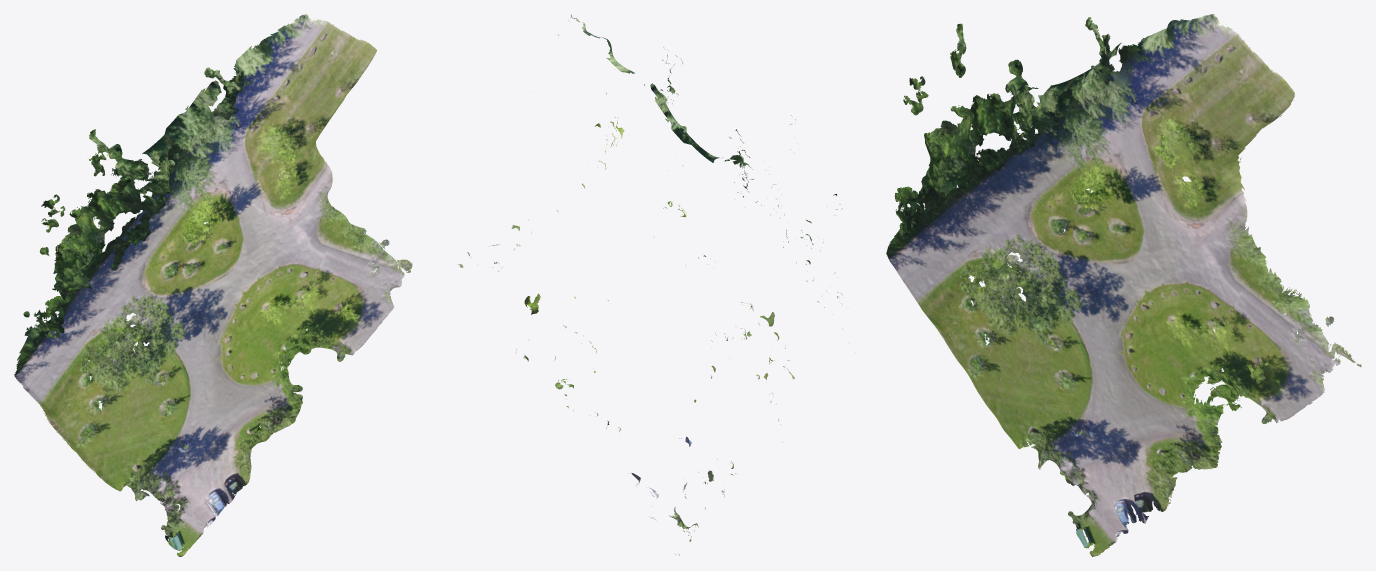
File: odm_textured_model_geo.glb
The picture shows the model from 3 angles, left to right: view 1: azimuth 30°, elevation 25°; view 2: azimuth 150°, elevation 25°; view 3: azimuth 330°, elevation 25°; orthographic projection. The views are drawn at different scales.
Bounding box in the file's own units: 62.98 × 76.26 × 10.14.
2 materials, 2 textured.
